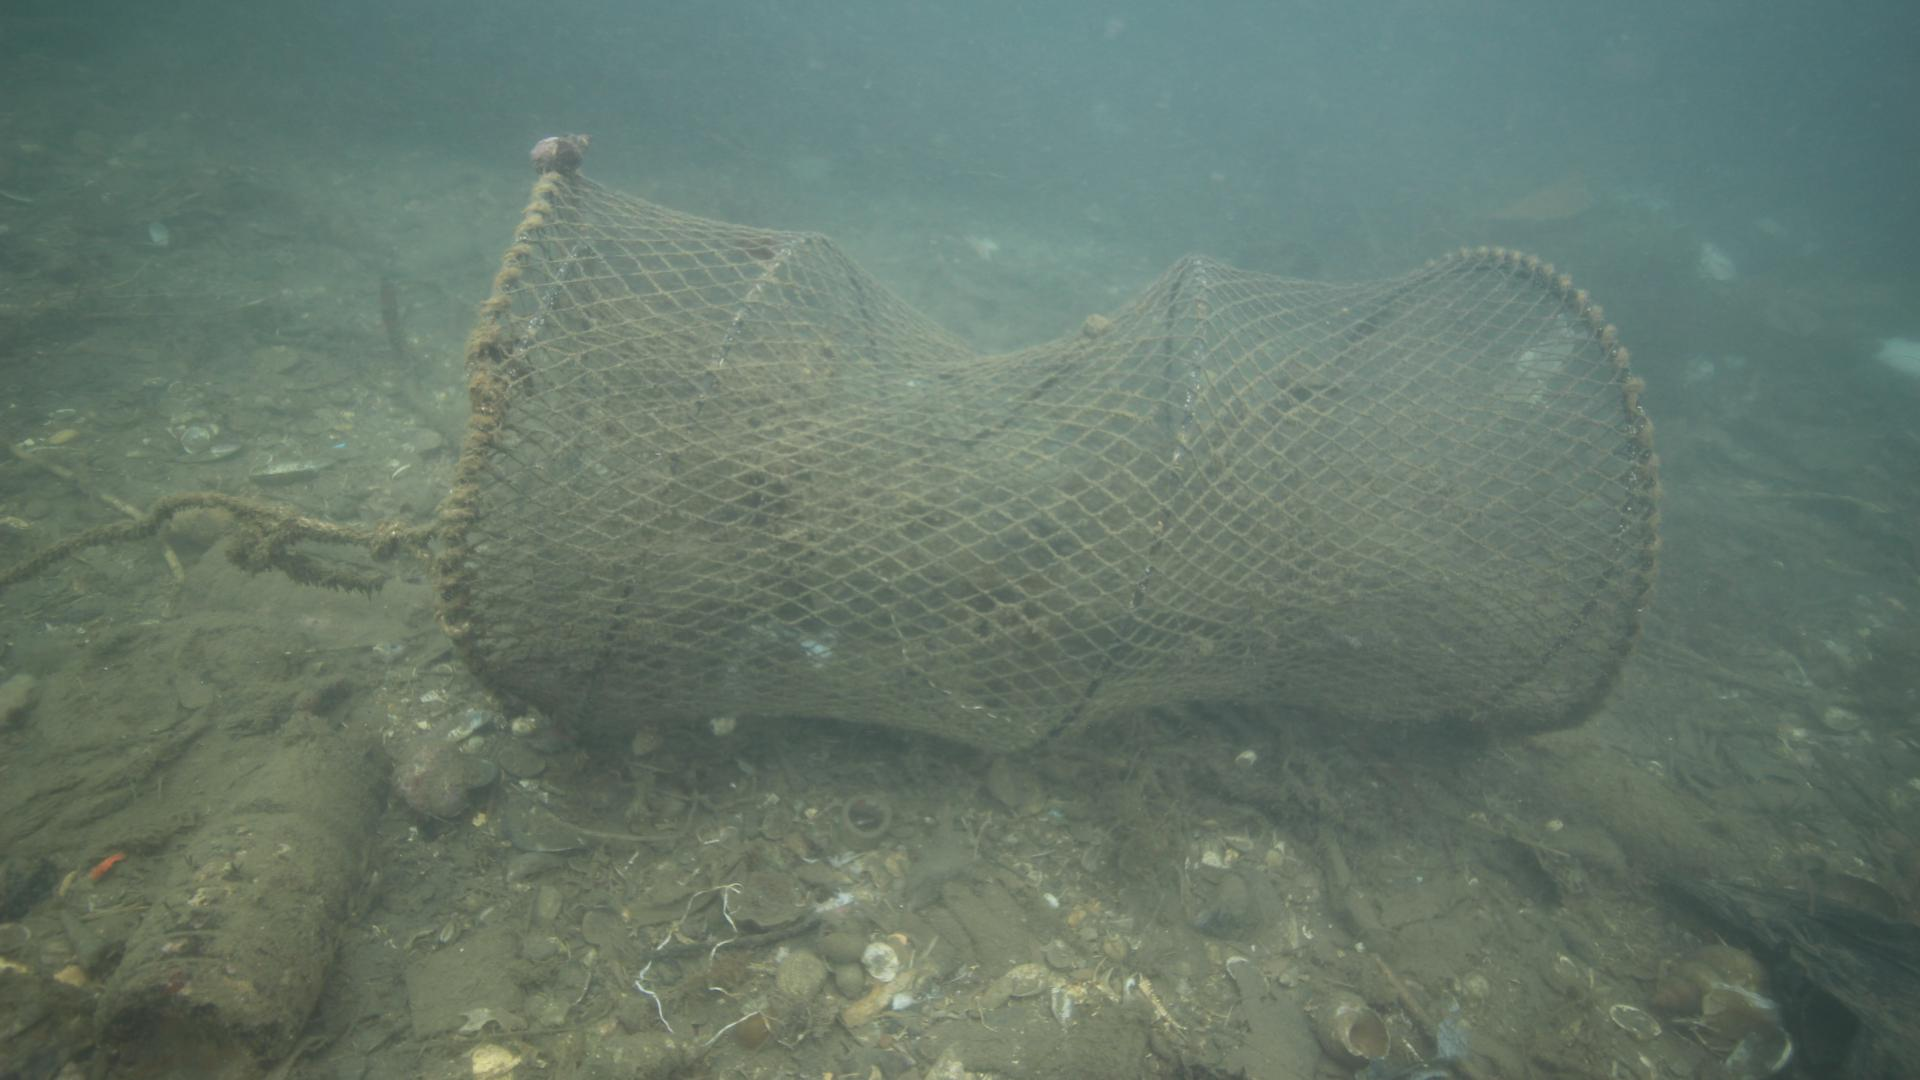rope: (0, 473, 419, 589)
spring fish trap: (435, 162, 1658, 764)
